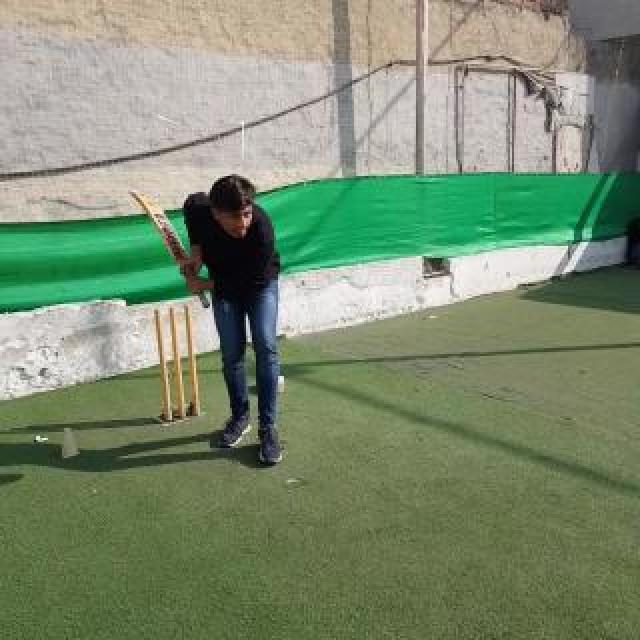bat: (128, 190, 210, 310)
